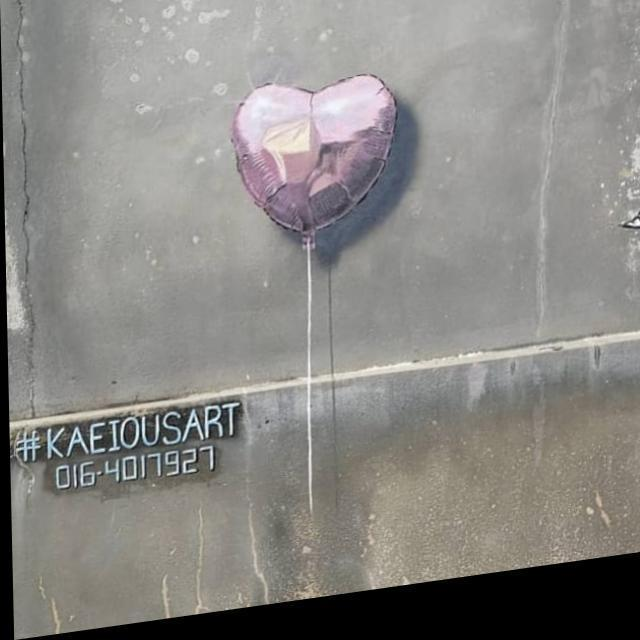-: (232, 46, 432, 526)
